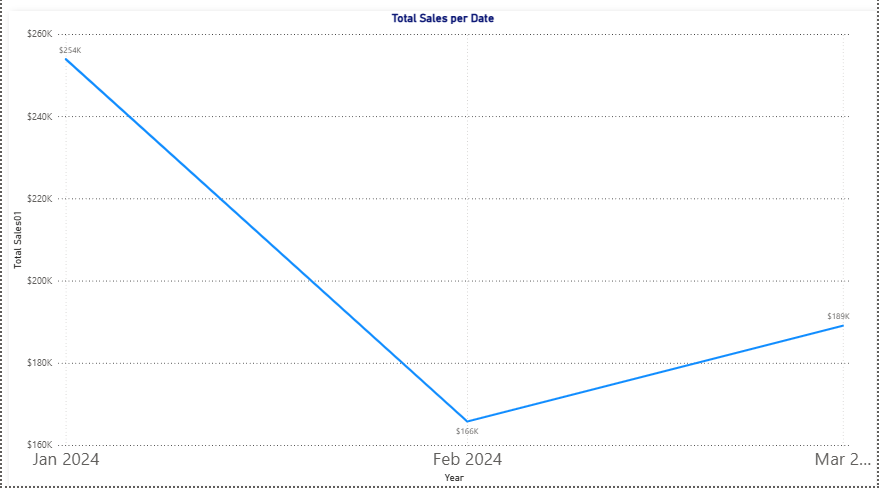

What the dashboard file says about the page in this screenshot:
{"tool":"powerbi","page":{"name":"Page 9","canvas":[1280,720],"ordinal":8},"visuals":[{"type":"lineChart","title":"Total Sales per Date ","fields":{"Y":["Model.Total Sales01"],"Category":["dim-date02.Date.Variation.Date Hierarchy.Year","dim-date02.Date.Variation.Date Hierarchy.Quarter","dim-date02.Date.Variation.Date Hierarchy.Month"]},"box":[10.2,24.9,1270.2,695.1],"z":0}]}

Visuals, with their boxes in screenshot pixels (x1, y1, x2, y2), scaled from the page's 1280x720 canvas onto the 885x493 screenshot:
"Total Sales per Date " lineChart: {"x1": 7, "y1": 17, "x2": 884, "y2": 492}
